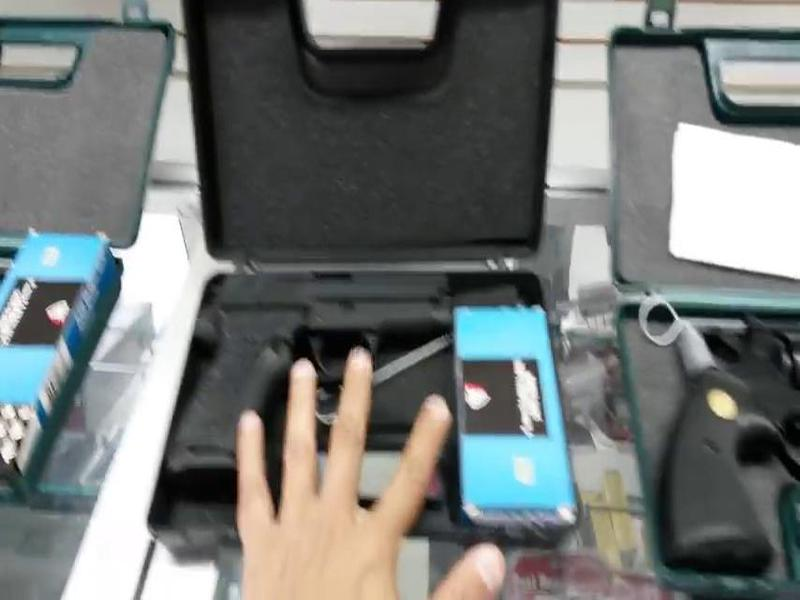Pistola: (154, 260, 473, 499)
